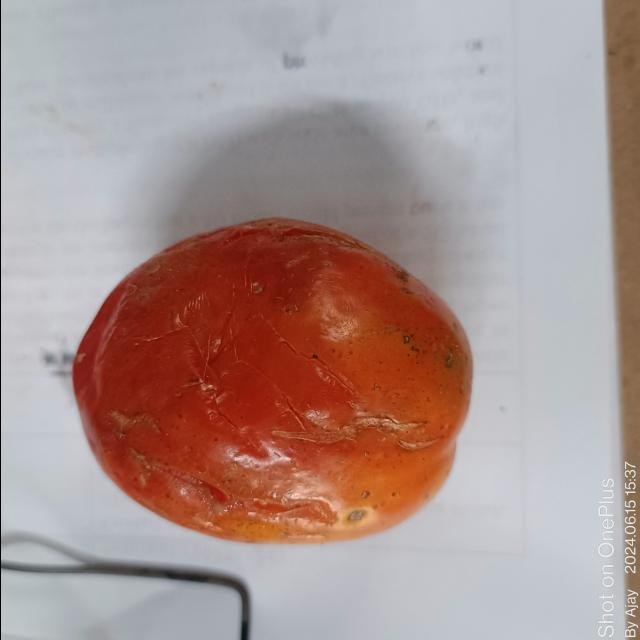Botrytis: (130, 446, 225, 504), (236, 494, 332, 520), (344, 506, 368, 524), (358, 488, 370, 500)
